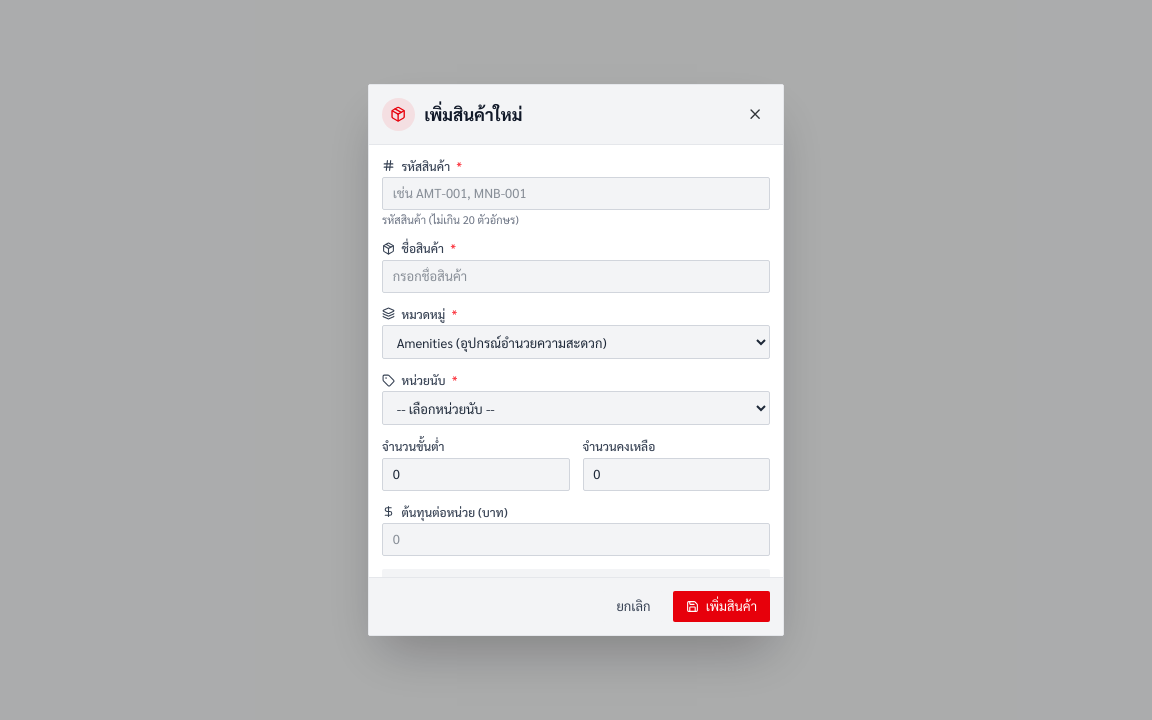
InventoryItemForm Component › Form Submission › shows error message on save failure
Type "TEST-001" into the field with placeholder "เช่น AMT-001, MNB-001".
click(576, 194); type("TEST-001")  # box [382, 177, 770, 210]
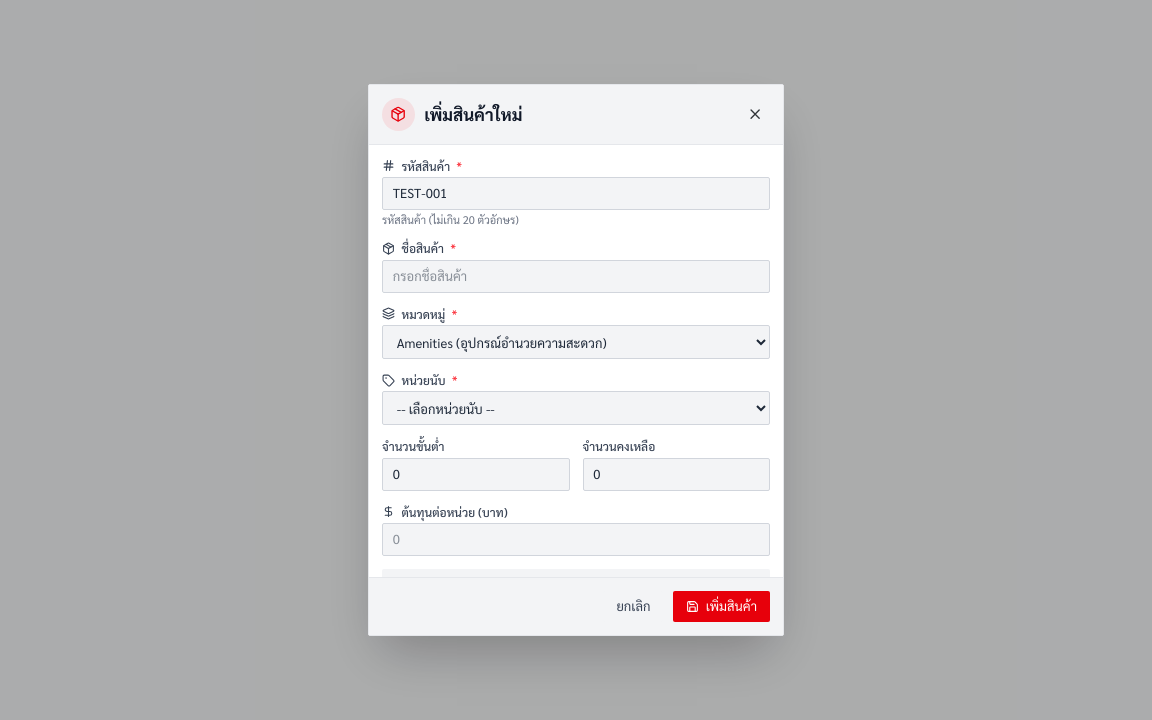
Type "Test Item" into the field with placeholder "กรอกชื่อสินค้า".
click(576, 276); type("Test Item")  # box [382, 260, 770, 293]
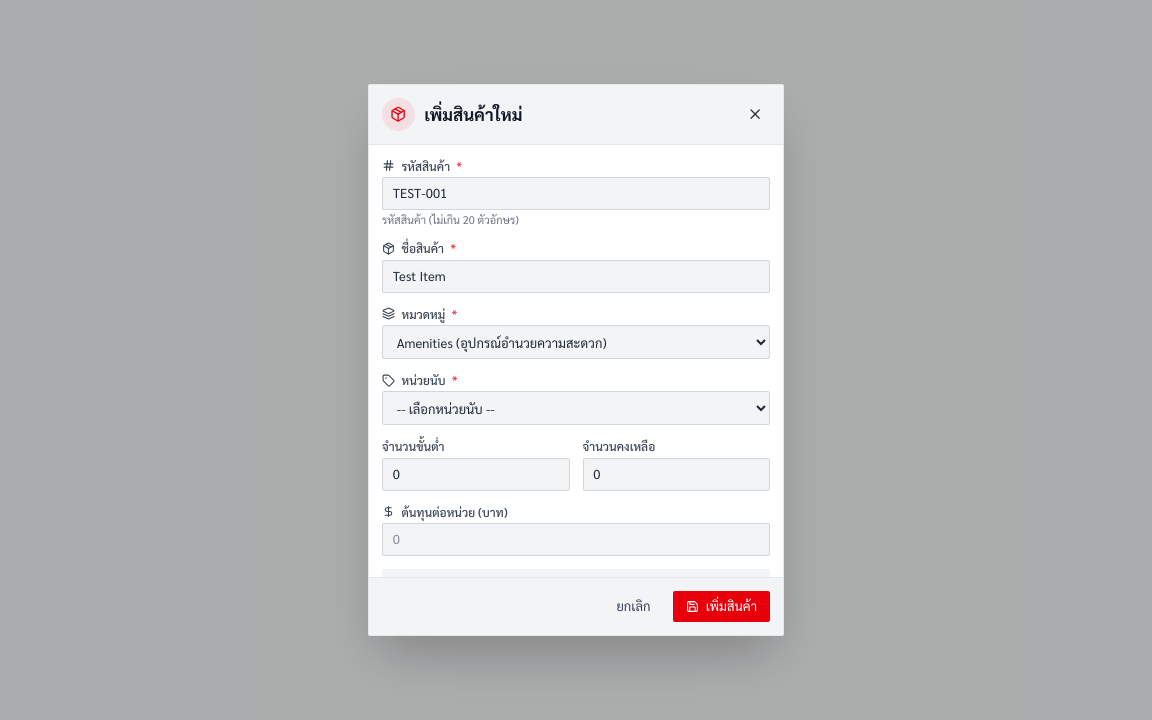
Select "ชิ้น" in the dropdown named "unit" below "หน่วยนับ" at (576, 408), box [382, 391, 770, 425]
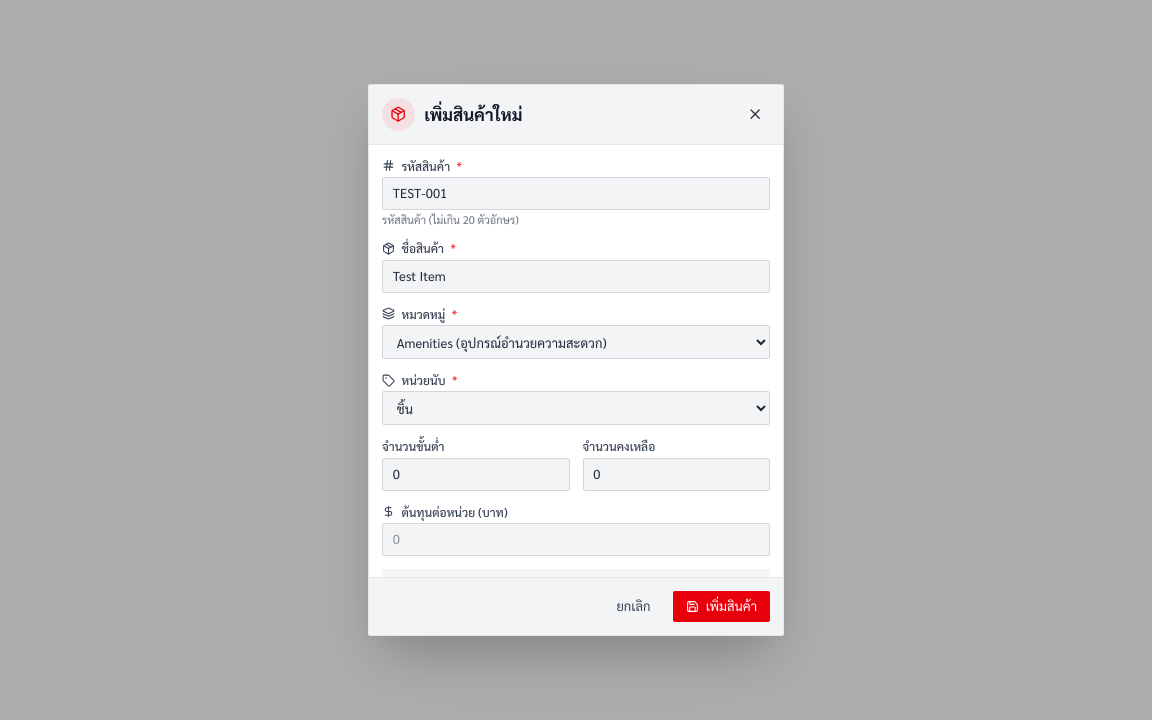
Click the button "เพิ่มสินค้า".
click(722, 606)  # box [673, 591, 770, 622]
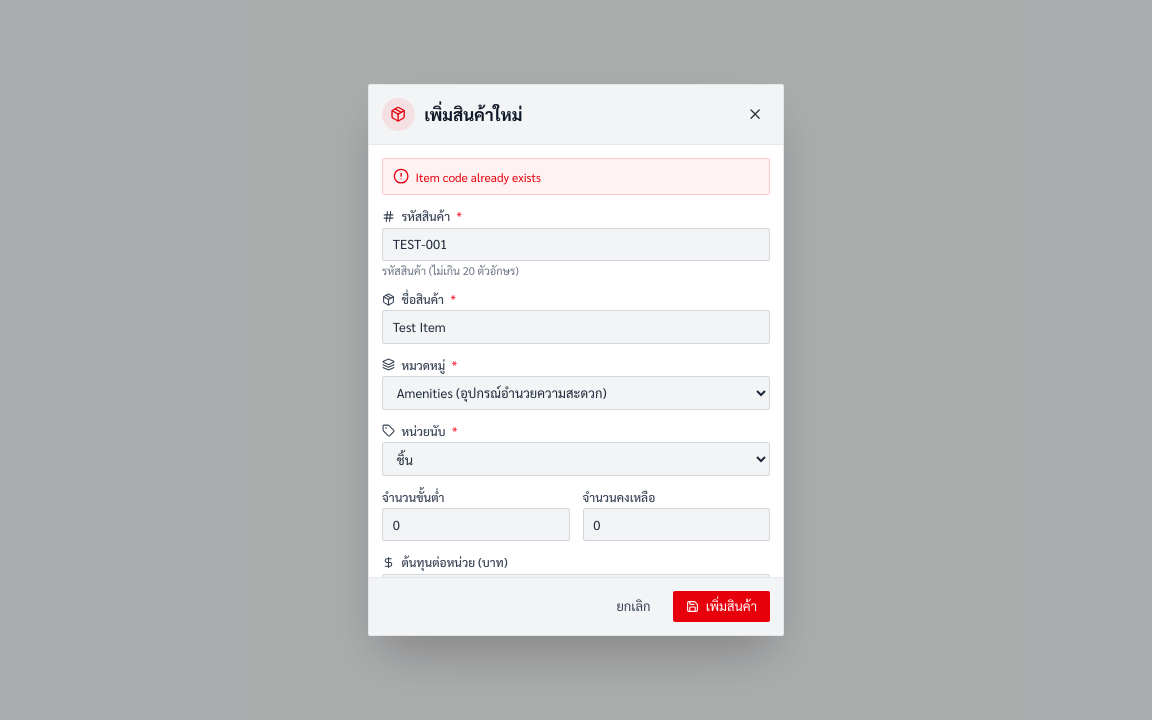
Check: the text "Item code already exists" is shown, box [416, 168, 541, 184]
